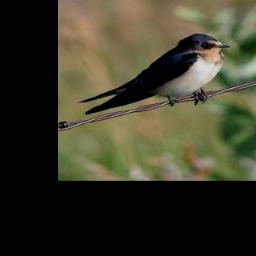Swallow: (78, 31, 232, 118)
